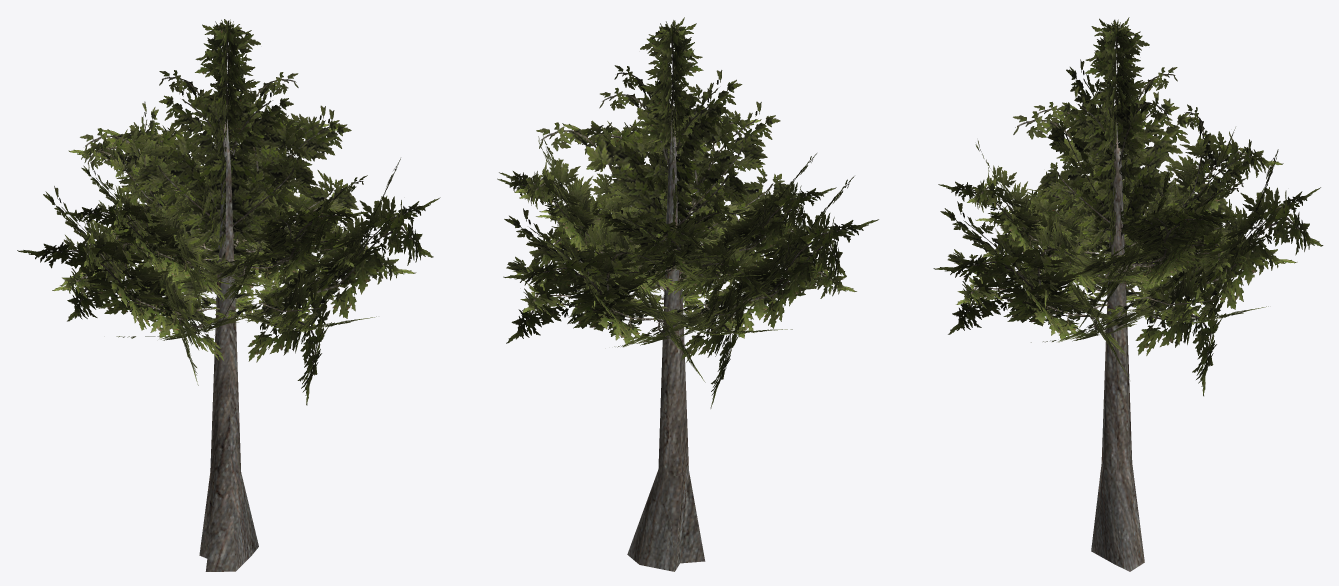
Rendered from Sharp_Maple07.gltf.
3 renders of one model, left to right at view 1: azimuth 30°, elevation 25°; view 2: azimuth 150°, elevation 25°; view 3: azimuth 270°, elevation 25°, orthographic.
Parts seen in each view (by area): view 1: Cfol, Bfol, Afol, Trunk, Trun; view 2: Cfol, Bfol, Afol, Trun, Trunk; view 3: Cfol, Bfol, Afol, Trunk, Trun.
Part boxes in pixels (box(x1,y1,x2,y2)): Cfol: box(17, 103, 440, 405); Bfol: box(61, 101, 369, 335); Afol: box(134, 19, 317, 263); Trunk: box(210, 105, 258, 570); Trun: box(199, 178, 258, 571); Cfol: box(499, 107, 878, 408); Bfol: box(497, 97, 836, 337); Afol: box(599, 17, 767, 259); Trun: box(627, 173, 705, 571); Trunk: box(658, 104, 688, 475); Cfol: box(933, 98, 1323, 396); Bfol: box(938, 92, 1283, 331); Afol: box(1036, 17, 1177, 257); Trunk: box(1091, 123, 1132, 571); Trun: box(1091, 463, 1144, 571).
Bounding box in the file's own units: 8.18 × 11.92 × 8.33.
Materials: 2 (2 with a texture image).
